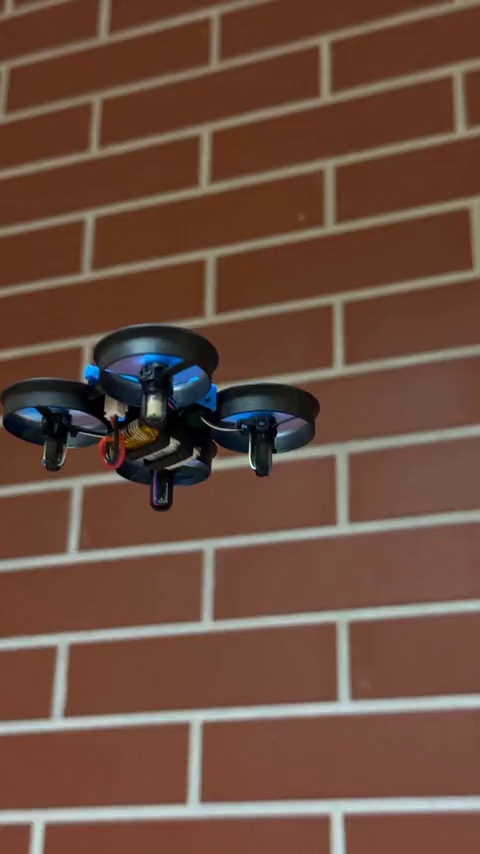drone: (0, 323, 322, 512)
